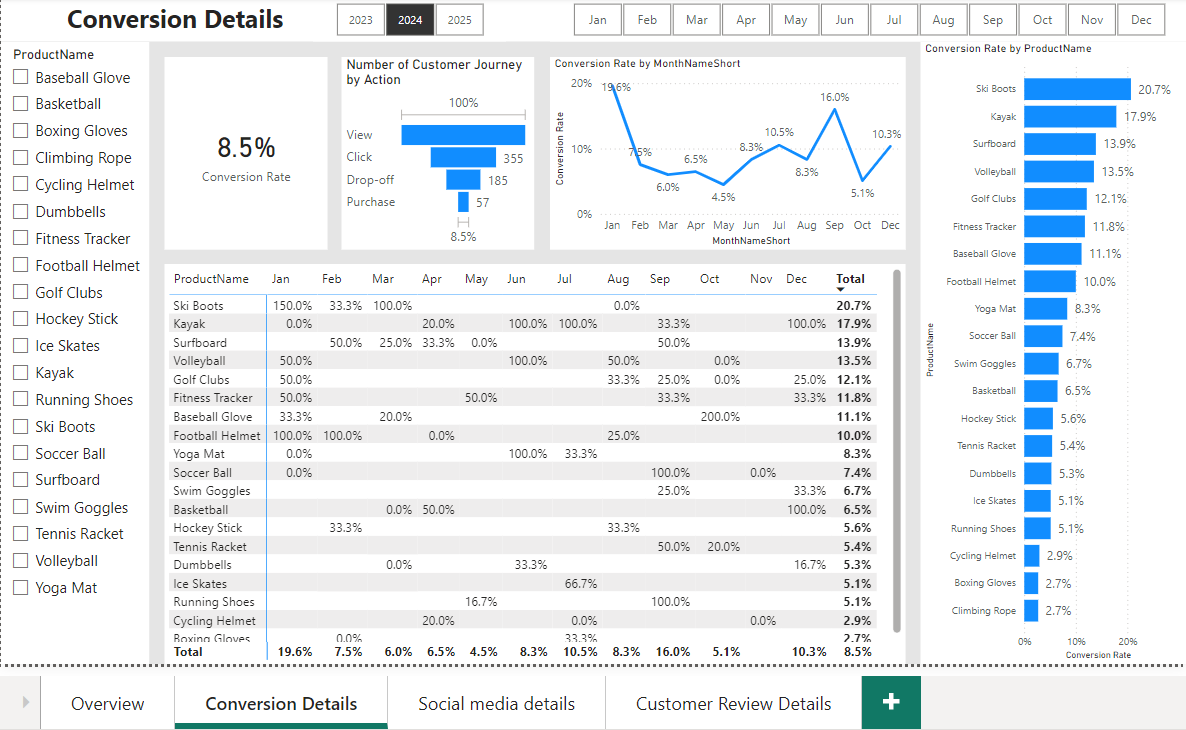

The dashboard page shown, as its layout file describes it:
{"tool":"powerbi","page":{"name":"Conversion Details","canvas":[1600,750],"ordinal":1},"visuals":[{"type":"textbox","box":[0,0,1632,48],"z":0},{"type":"slicer","fields":{"Values":["dim_products.ProductName"]},"box":[0,64,208,672],"z":1000},{"type":"card","fields":{"Values":["Calculations.Conversion Rate"]},"box":[224,64,176,208],"z":2000},{"type":"slicer","fields":{"Values":["Calendar.Year"]},"box":[336,0,336,48],"z":3000},{"type":"slicer","fields":{"Values":["Calendar.MonthNameShort"]},"box":[672,0,928,48],"z":4000},{"type":"lineChart","fields":{"Y":["Calculations.Conversion Rate"],"Category":["Calendar.MonthNameShort"]},"box":[720,64,384,208],"z":5000},{"type":"barChart","fields":{"Category":["dim_products.ProductName"],"Y":["Calculations.Conversion Rate"]},"box":[1120,64,464,672],"z":6000},{"type":"pivotTable","fields":{"Values":["Calculations.Conversion Rate"],"Rows":["dim_products.ProductName"],"Columns":["Calendar.MonthNameShort"]},"box":[224,288,880,448],"z":7000},{"type":"funnel","fields":{"Y":["Calculations.Number of Customer Journey"],"Category":["fact_customer_journey.Action"]},"box":[416,64,288,208],"z":8000}]}

Visuals, with their boxes on the page's 1600x750 design canvas (x1, y1, x2, y2). These are canvas units, not pixel positions in the 1186x730 screenshot, which may show the page scaled, cropped or inside an application window:
textbox: Rect(0, 0, 1632, 48)
slicer - dim_products.ProductName: Rect(0, 64, 208, 736)
card - Calculations.Conversion Rate: Rect(224, 64, 400, 272)
slicer - Calendar.Year: Rect(336, 0, 672, 48)
slicer - Calendar.MonthNameShort: Rect(672, 0, 1600, 48)
lineChart - Calculations.Conversion Rate x Calendar.MonthNameShort: Rect(720, 64, 1104, 272)
barChart - dim_products.ProductName x Calculations.Conversion Rate: Rect(1120, 64, 1584, 736)
pivotTable - Calculations.Conversion Rate x dim_products.ProductName: Rect(224, 288, 1104, 736)
funnel - Calculations.Number of Customer Journey x fact_customer_journey.Action: Rect(416, 64, 704, 272)
